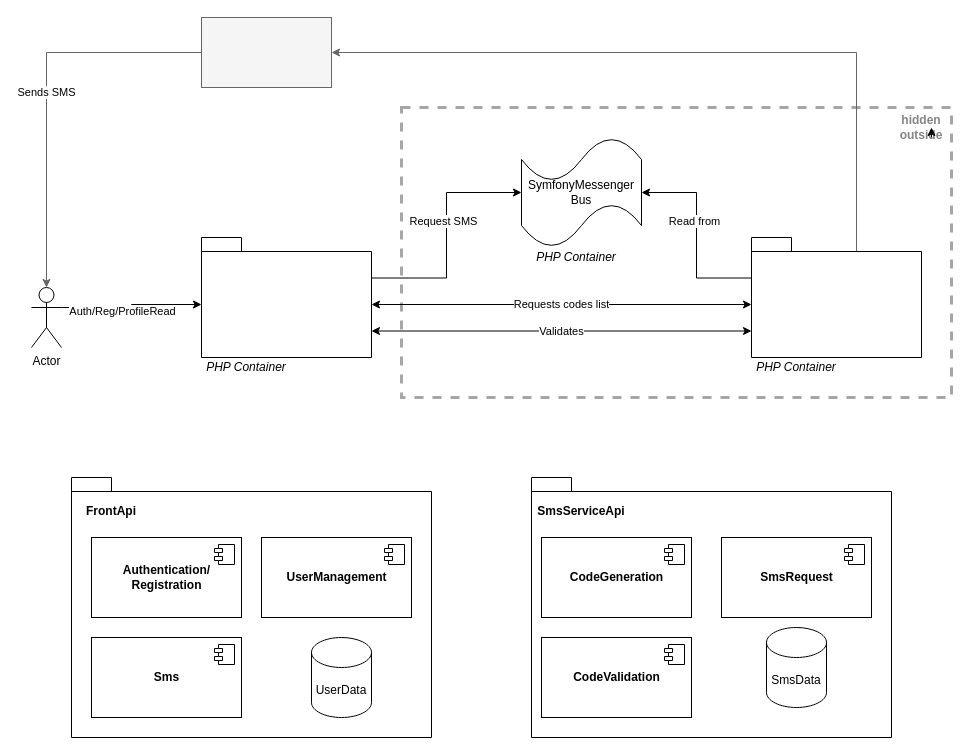
This 970x755 diagram has some shape labels left out. Here are the shapes that lost their labels. From the top down, the box of each, then its label:
(200, 16, 332, 88): ExternalSmsProvider
(200, 236, 372, 358): FrontApi P /user/reg P /user/confirm G /user/profile
(750, 236, 922, 358): SmsServiceApi P /codes/find G /codes
